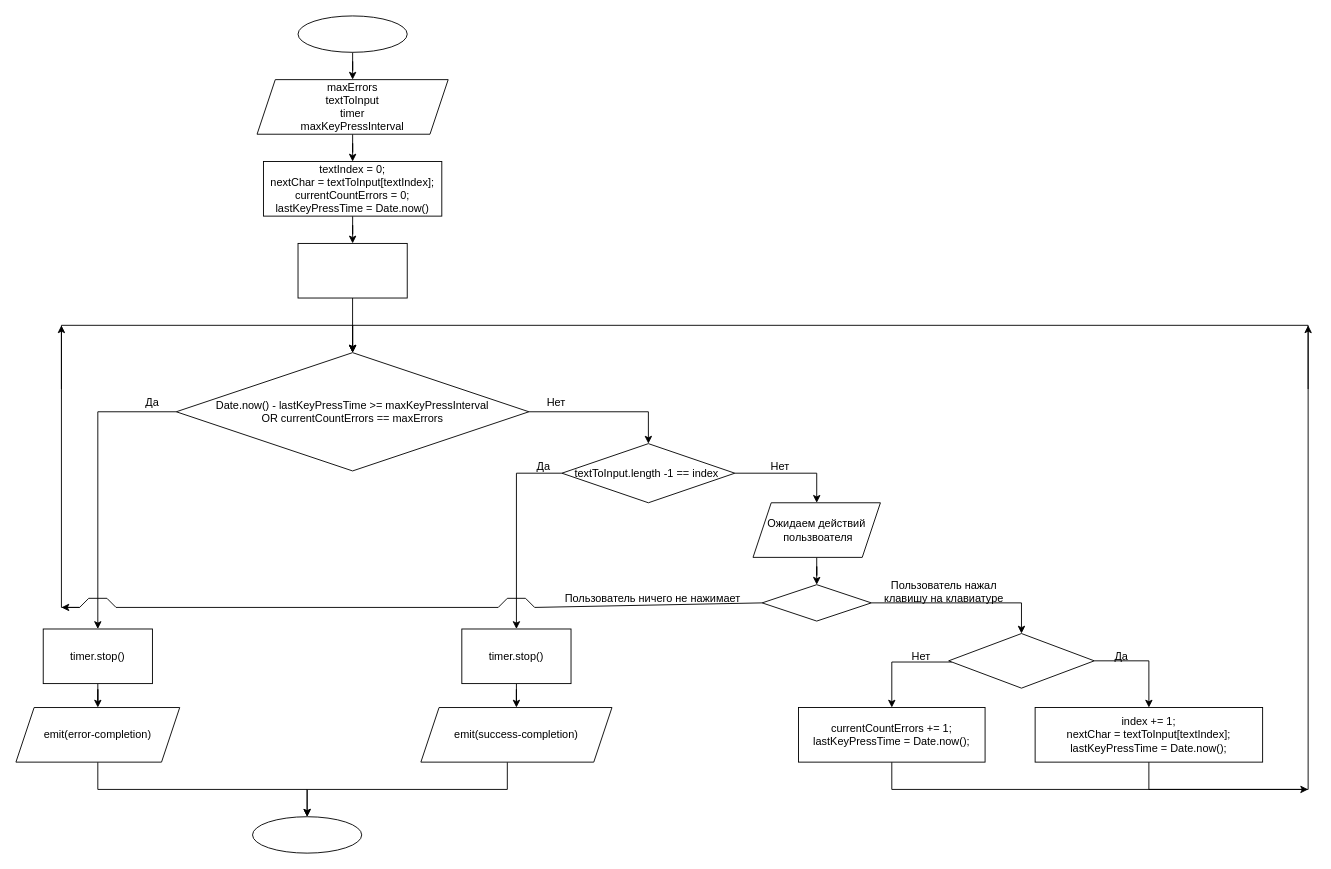
This 1331x869 diagram has some shape labels left out. Here are the shapes that lost their labels. From the top down, the centre of each, then its label:
At [352,33]: "Начало".
At [352,270]: "timer.start()".
At [816,602]: "Действие".
At [1021,660]: "event.key==nextChar".
At [307,834]: "Конец".
